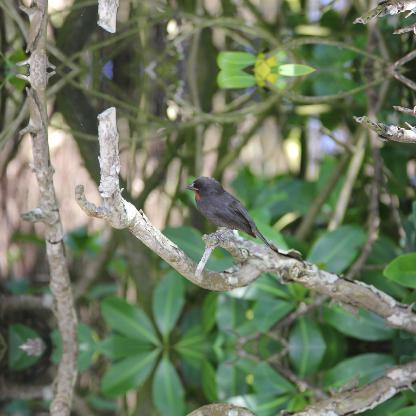Bird: (180, 176, 282, 250)
